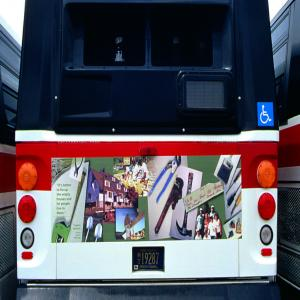Vehicle-registration-plate: (136, 250, 164, 272)
